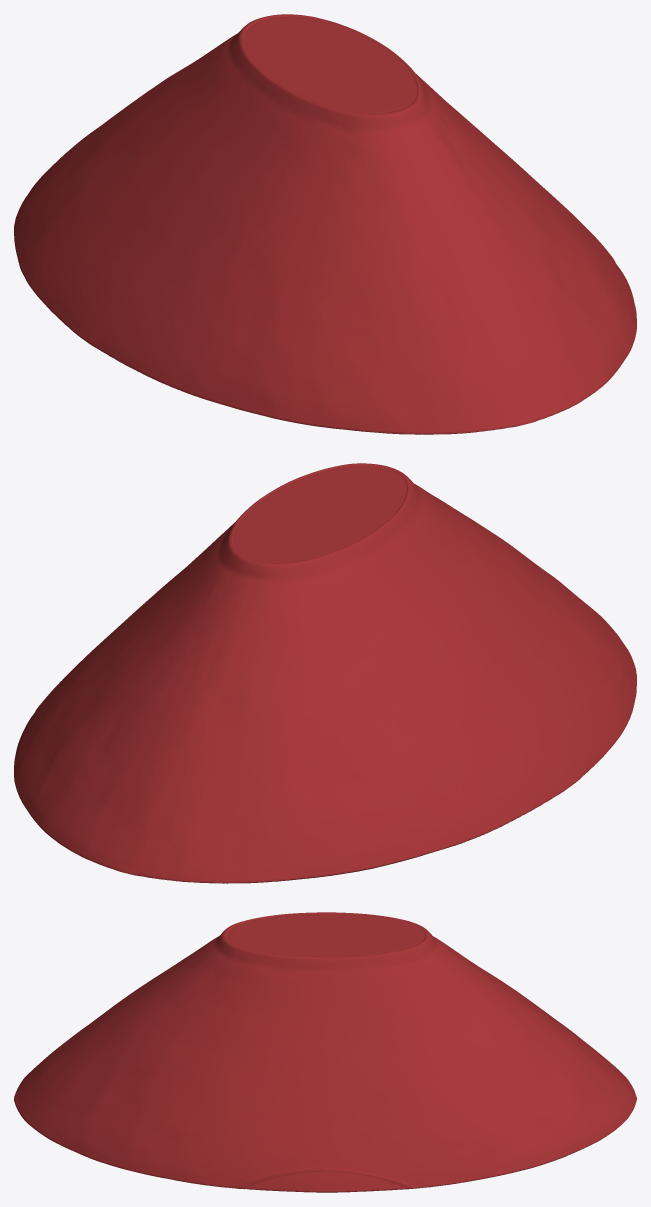
The model's file is skirt.glb.
The picture shows the model from 3 angles, top to bottom: view 1: azimuth 30°, elevation 25°; view 2: azimuth 150°, elevation 25°; view 3: azimuth 270°, elevation 25°; orthographic projection. The views are drawn at different scales.
Visible parts, largest first — view 1: geometry_0; view 2: geometry_0; view 3: geometry_0.
Boxes of the visible parts, x1=… form: geometry_0: x1=14, y1=14, x2=636, y2=434; geometry_0: x1=14, y1=463, x2=636, y2=883; geometry_0: x1=14, y1=912, x2=636, y2=1192.
Bounding box in the file's own units: 0.6521 × 0.2735 × 0.9227.
